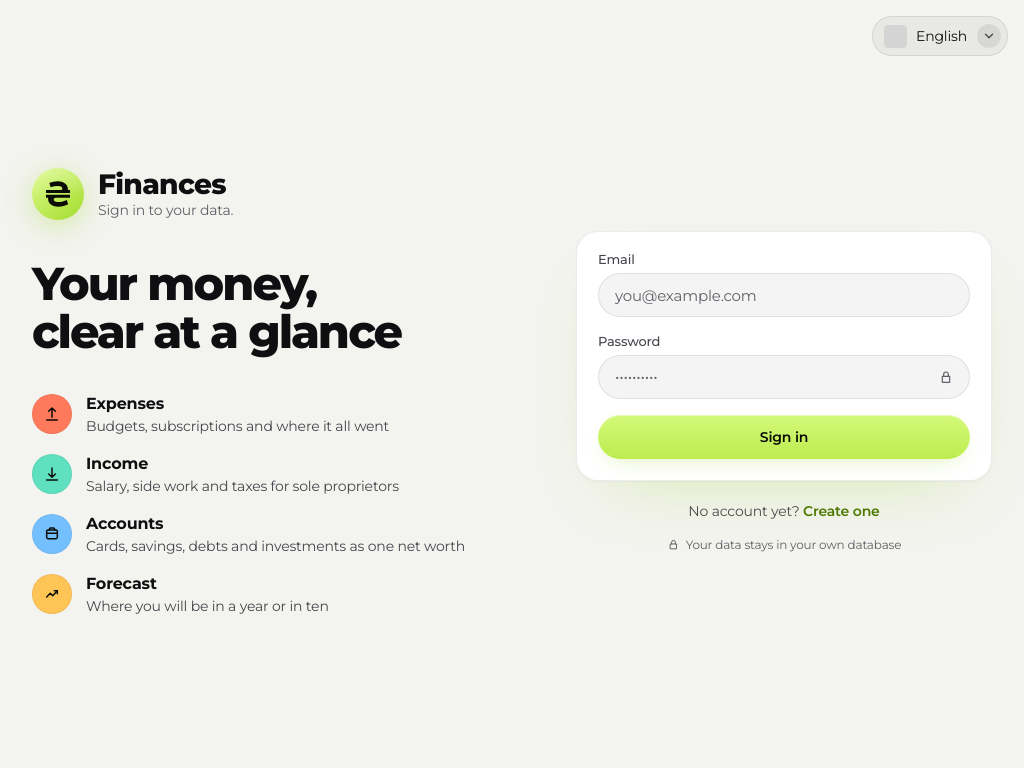
Test: SignInPage › names a wrong password and a server that cannot be reached
Type "me@example.com" into the field with placeholder "you@example.com".
click(784, 295); type("me@example.com")  # box top-left (598, 273), bottom-right (970, 317)
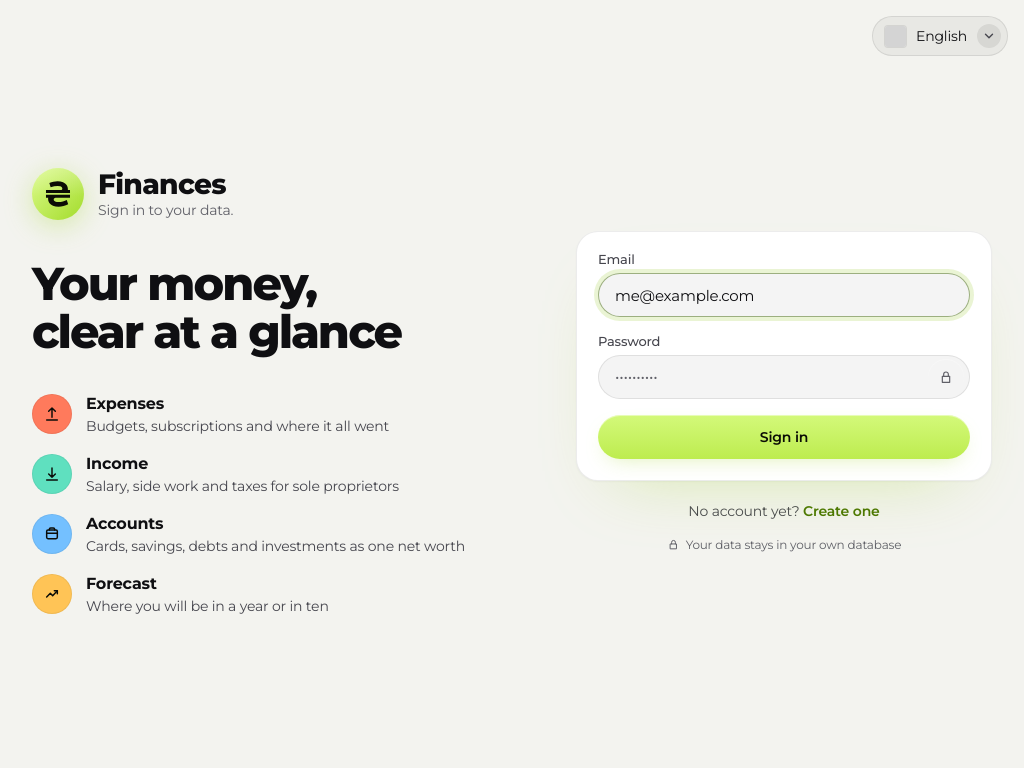
Type "secret" into the password field with placeholder "••••••••••".
click(784, 376); type("secret")  # box top-left (598, 354), bottom-right (970, 398)
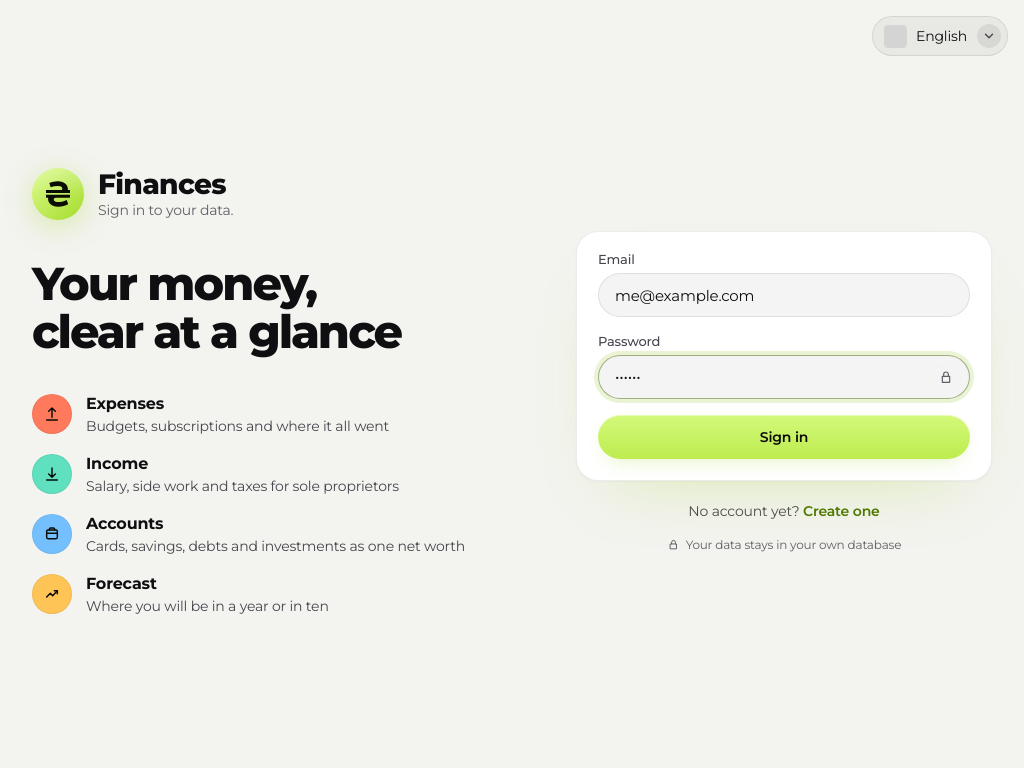
Click the button "Sign in".
click(784, 436)  # box top-left (598, 414), bottom-right (970, 458)
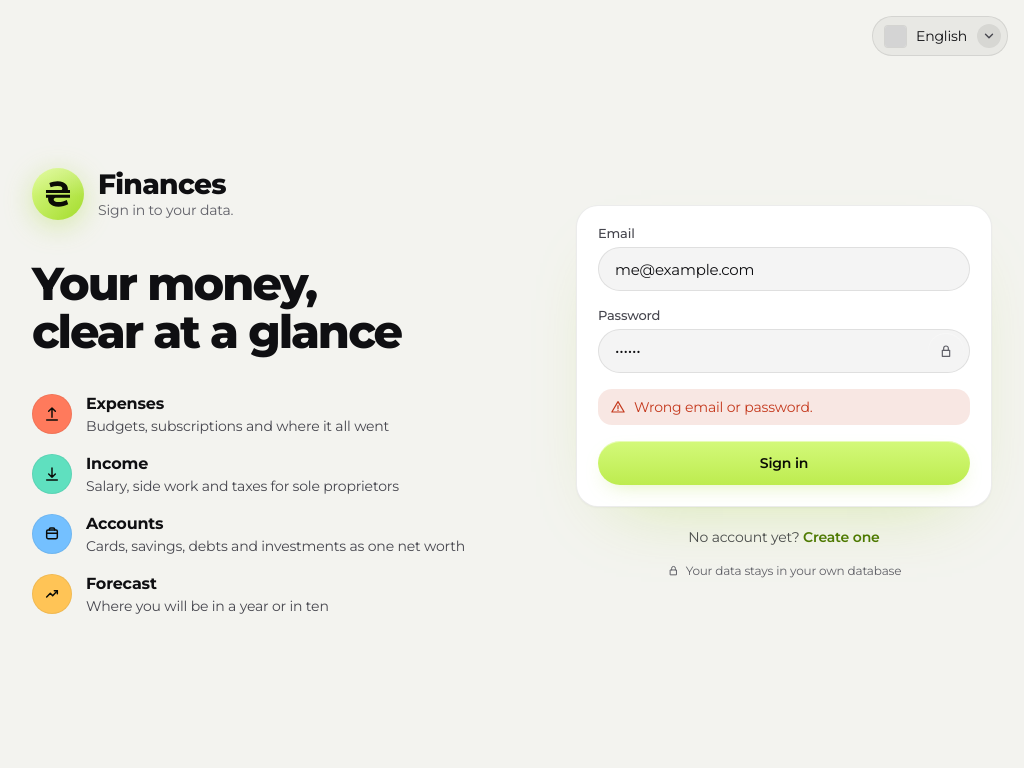
Expected: the message reads "Wrong email or password.", top-left (634, 398), bottom-right (813, 416)
Click the button "Sign in".
click(784, 462)  # box top-left (598, 440), bottom-right (970, 484)
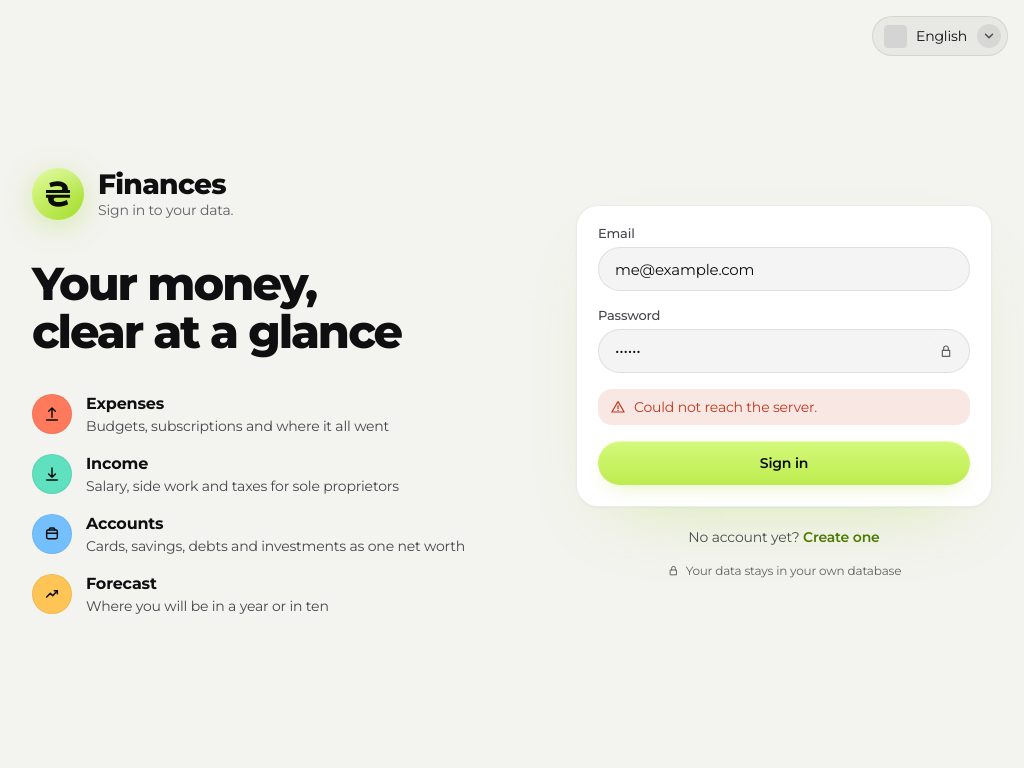
Expected: the text "Could not reach the server." is shown, top-left (598, 388), bottom-right (970, 424)
